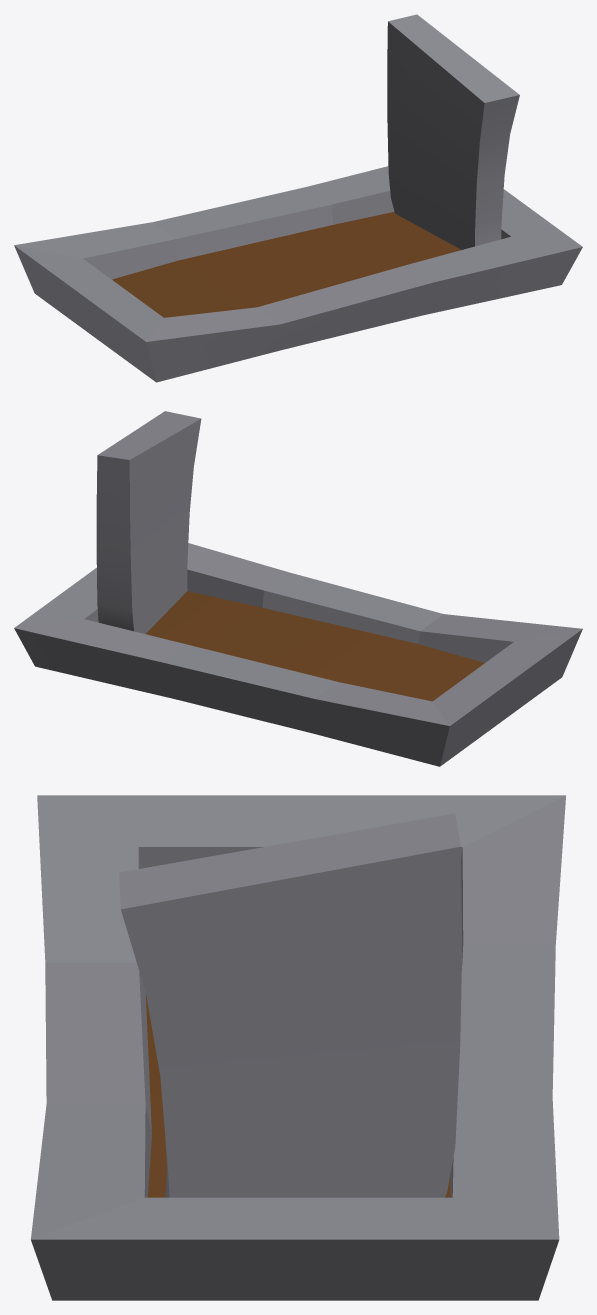
The model's file is Grave2.gltf.
The picture shows the model from 3 angles, top to bottom: view 1: azimuth 30°, elevation 25°; view 2: azimuth 150°, elevation 25°; view 3: azimuth 270°, elevation 25°; orthographic projection. The views are drawn at different scales.
Visible parts, largest first — view 1: Grave2; view 2: Grave2; view 3: Grave2.
Boxes of the visible parts, left/top/right/bottom form: Grave2: left=14, top=14, right=582, bottom=382; Grave2: left=14, top=411, right=582, bottom=766; Grave2: left=31, top=795, right=565, bottom=1300.
Size of the model in its own units: 1.58 by 0.7224 by 0.843.
